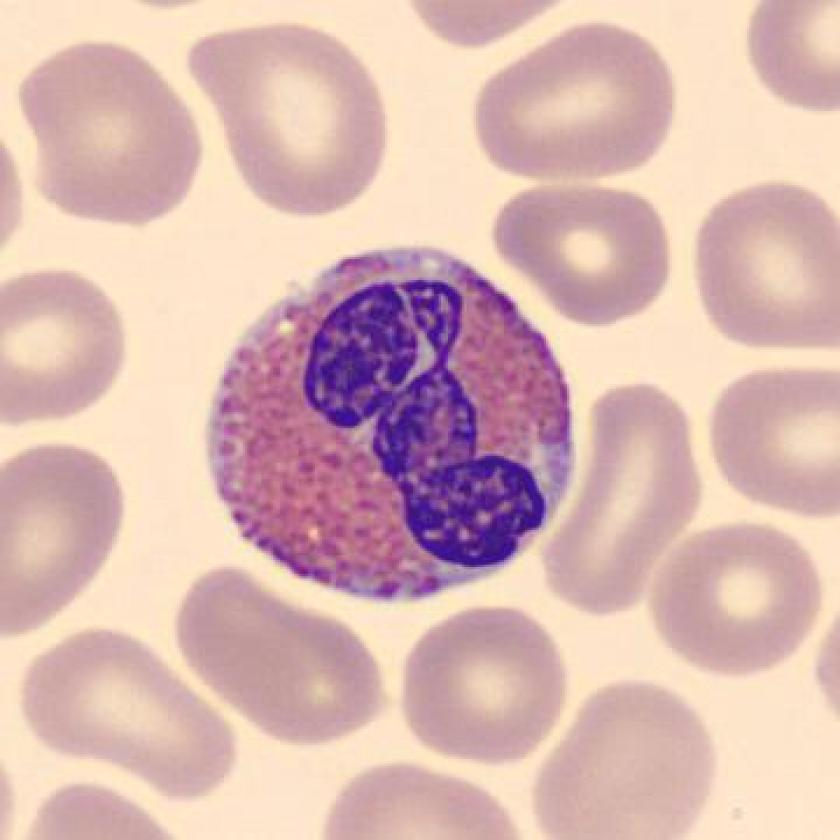eosinophil: (202, 228, 587, 619)
